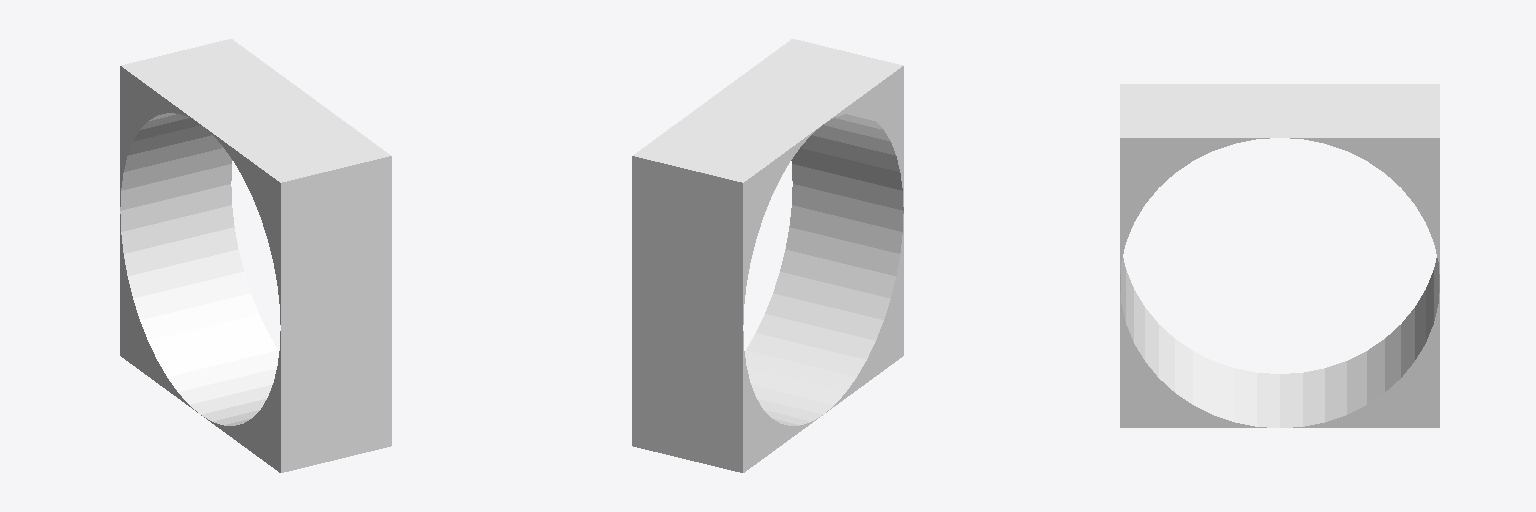
File: oblo.obj
3 renders of one model, left to right at view 1: azimuth 30°, elevation 25°; view 2: azimuth 150°, elevation 25°; view 3: azimuth 270°, elevation 25°, orthographic.
Size of the model in its own units: 0.3 by 0.75 by 0.75.